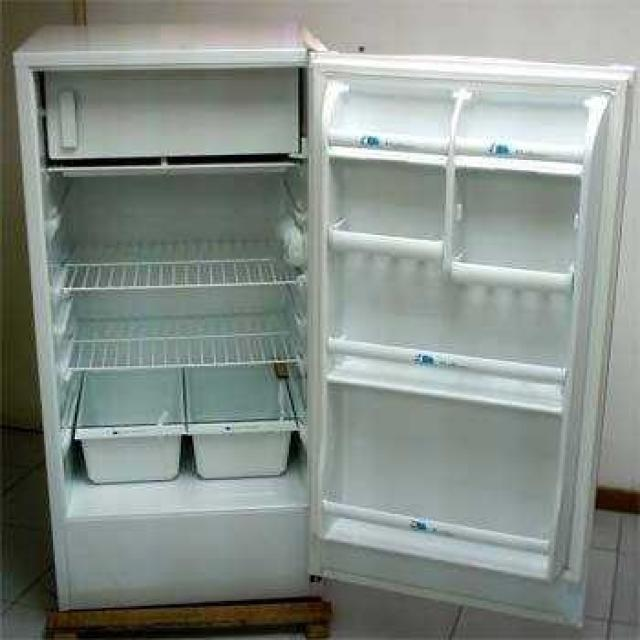refrigerator: (13, 52, 589, 616)
